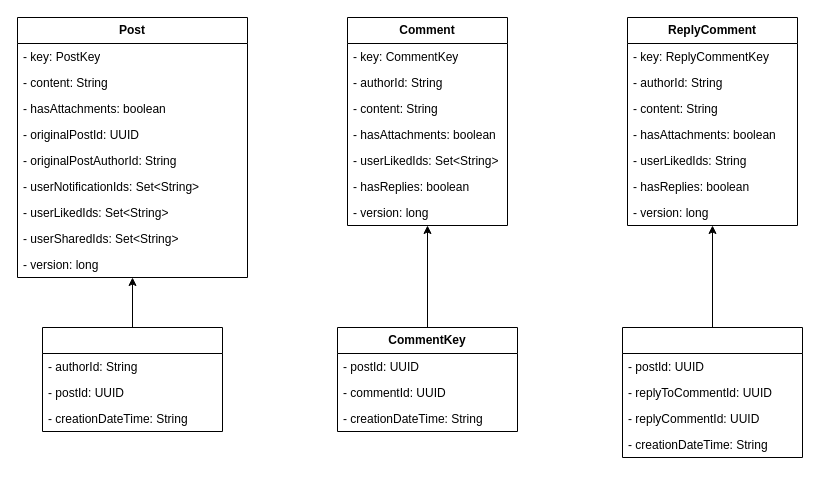
This 820x478 diagram has some shape labels left out. Here are the shapes that lost their labels. From the top down, the box of each, then its label:
(42, 326, 222, 432): PostKey
(622, 326, 802, 458): ReplyCommentKey
